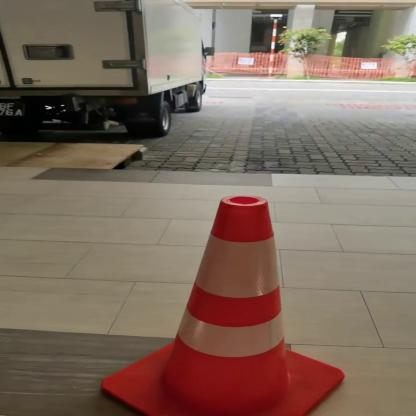cone: (91, 194, 353, 415)
